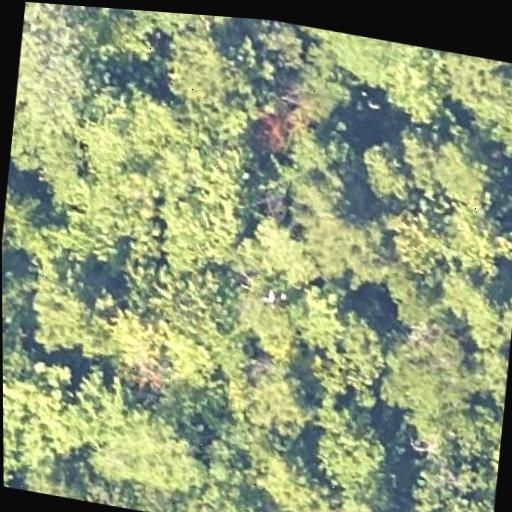tree-top: (384, 124, 512, 274), (270, 122, 382, 278), (79, 384, 216, 507), (297, 26, 463, 118), (12, 1, 114, 138), (3, 353, 100, 486), (294, 283, 394, 404), (156, 163, 253, 284), (154, 19, 257, 112), (309, 397, 397, 500), (230, 212, 322, 310), (22, 260, 107, 364), (389, 306, 479, 393), (436, 254, 512, 356), (238, 352, 321, 441), (348, 126, 421, 211), (400, 449, 496, 512), (167, 471, 287, 512), (470, 57, 512, 167), (1, 172, 51, 263), (8, 459, 107, 504), (246, 18, 314, 75), (132, 10, 239, 46), (2, 259, 20, 330)
